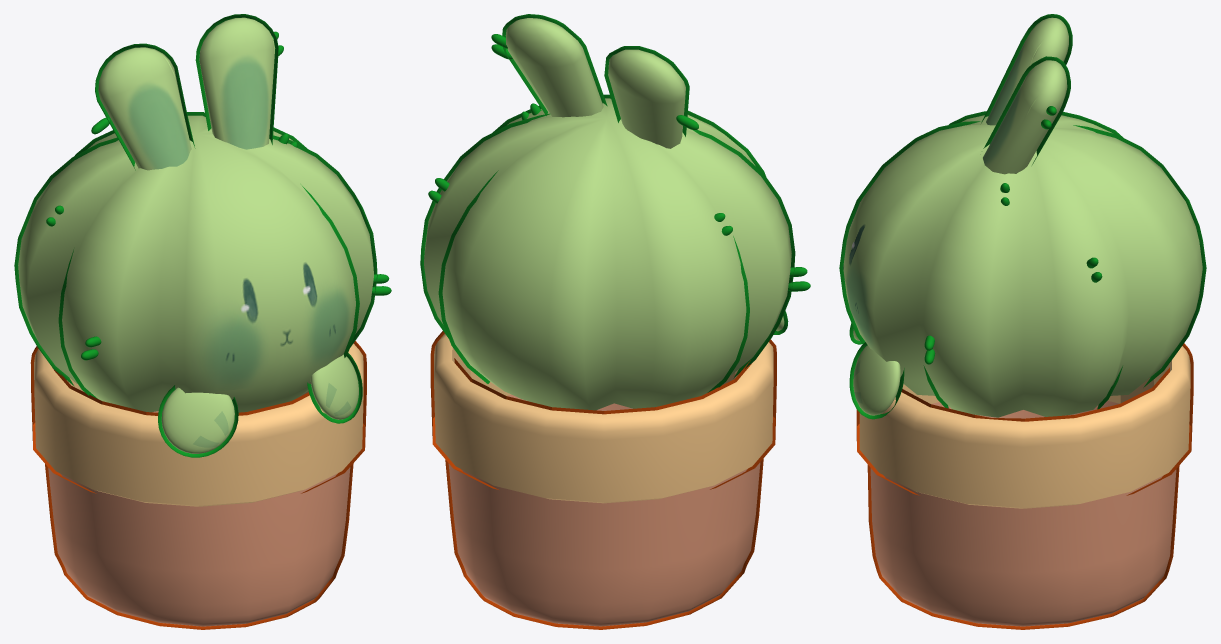
3 views of the same model, side by side, from view 1: azimuth 30°, elevation 25°; view 2: azimuth 150°, elevation 25°; view 3: azimuth 270°, elevation 25° (orthographic). The views are drawn at different scales.
Visible parts, largest first — view 1: Conejo_cactus_Mix_mat_0, Out_Conejo_Out_conejo_0, Out_maceta_Out_maceta_0, Espinas_Out_conejo_0; view 2: Conejo_cactus_Mix_mat_0, Out_Conejo_Out_conejo_0, Out_maceta_Out_maceta_0, Espinas_Out_conejo_0; view 3: Conejo_cactus_Mix_mat_0, Out_Conejo_Out_conejo_0, Out_maceta_Out_maceta_0, Espinas_Out_conejo_0.
Boxes of the visible parts, x1,y1,x2,y2 form: Conejo_cactus_Mix_mat_0: (18,17,373,626); Out_Conejo_Out_conejo_0: (14,14,377,457); Out_maceta_Out_maceta_0: (30,341,366,629); Espinas_Out_conejo_0: (46,31,391,360); Conejo_cactus_Mix_mat_0: (424,18,791,626); Out_Conejo_Out_conejo_0: (420,14,795,392); Out_maceta_Out_maceta_0: (430,331,776,629); Espinas_Out_conejo_0: (428,34,810,291); Conejo_cactus_Mix_mat_0: (843,17,1202,626); Out_Conejo_Out_conejo_0: (839,14,1206,419); Out_maceta_Out_maceta_0: (856,343,1193,629); Espinas_Out_conejo_0: (924,106,1102,364).
Size of the model in its own units: 2.39 by 3.96 by 2.44.
Materials: 3 (1 with a texture image).
